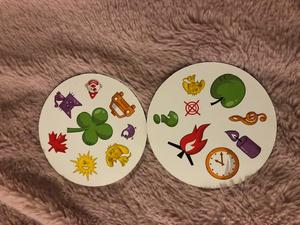bougie: (225, 129, 262, 158)
chien: (102, 141, 133, 168), (178, 71, 206, 98)
cible: (180, 99, 201, 117)
clown: (85, 78, 103, 101)
feu: (166, 122, 212, 168)
feuille: (45, 129, 69, 154)
horloge: (204, 145, 239, 179)
note: (227, 109, 270, 127)
oiseau: (51, 89, 84, 118), (119, 122, 138, 141)
point_interrogation: (152, 109, 178, 128)
pomme: (207, 72, 247, 109)
soleil: (69, 150, 100, 180)
trefle: (65, 106, 115, 146)
voiture: (107, 89, 138, 118)
